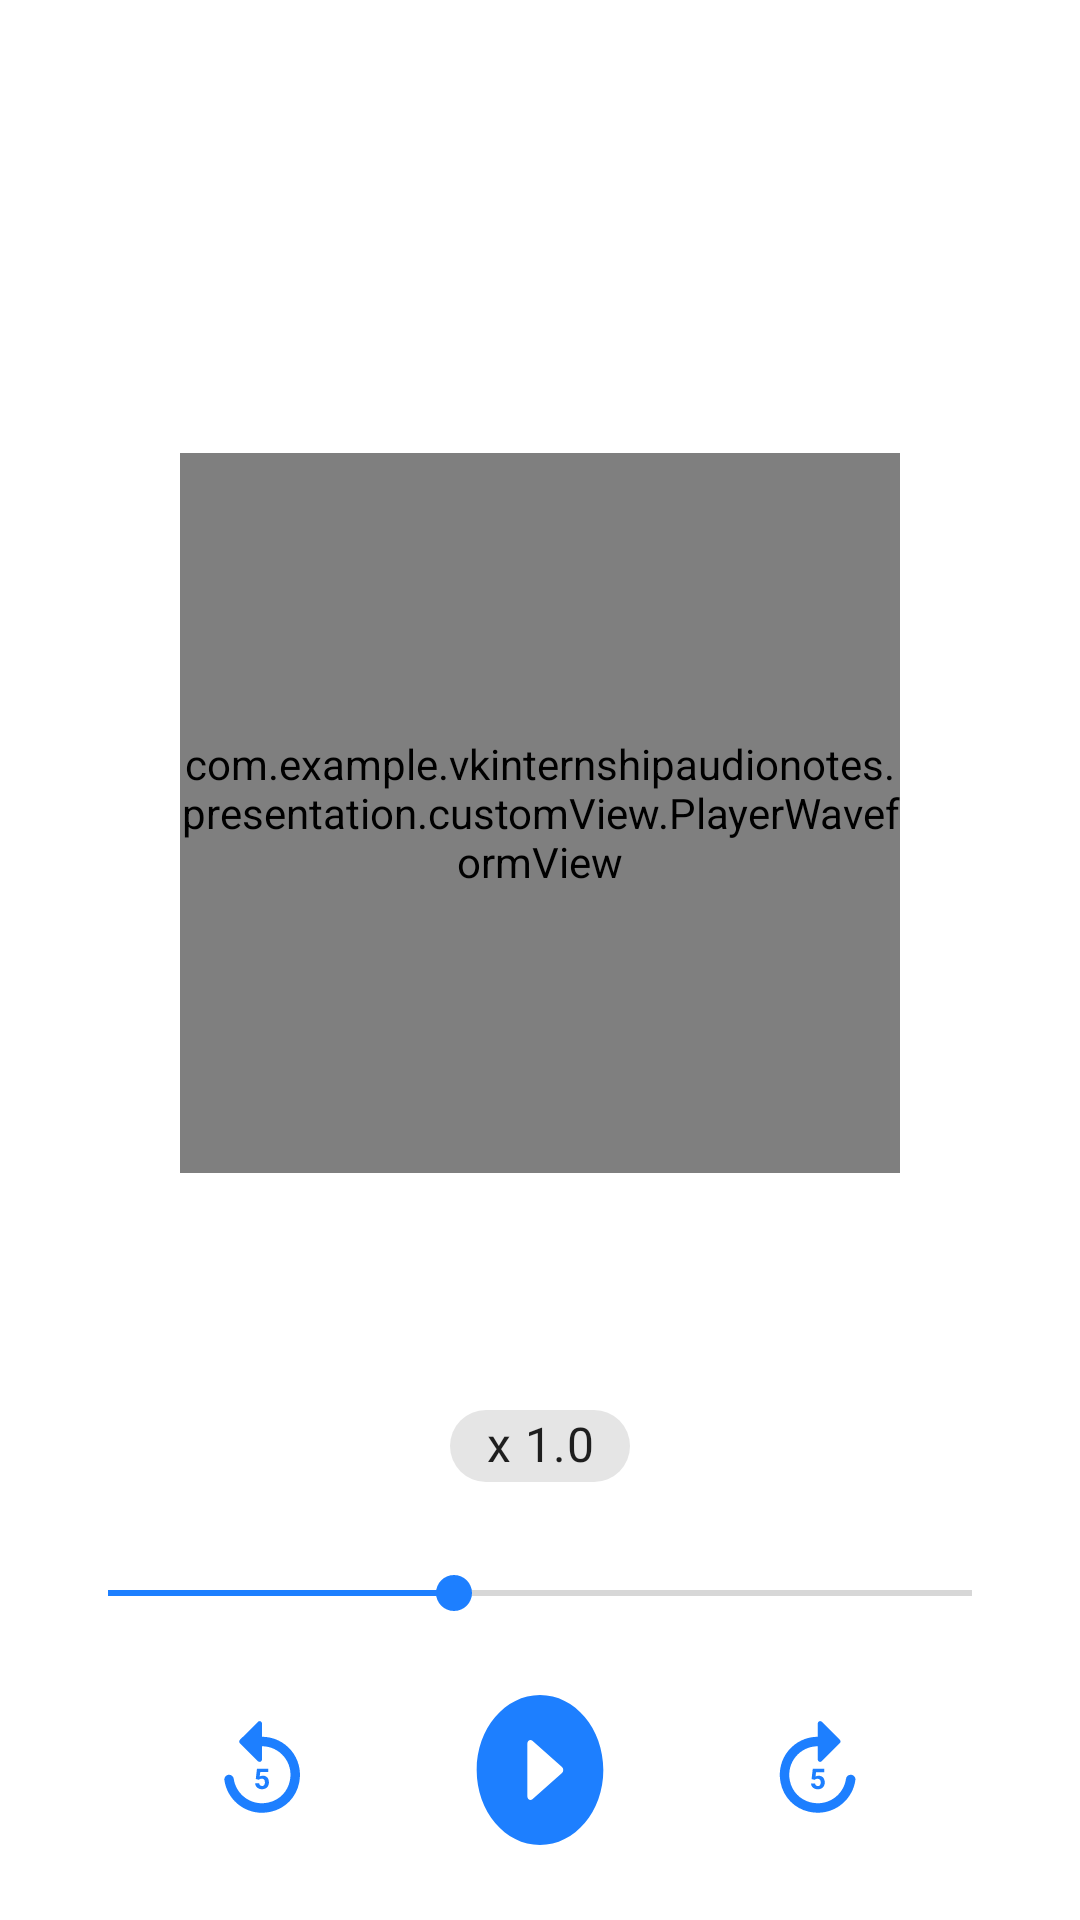

Where to tap for icons on this 1080x1920 app screen, as (x,y):
backward: (262,1767)
forward: (817,1767)
play circle: (540,1770)
